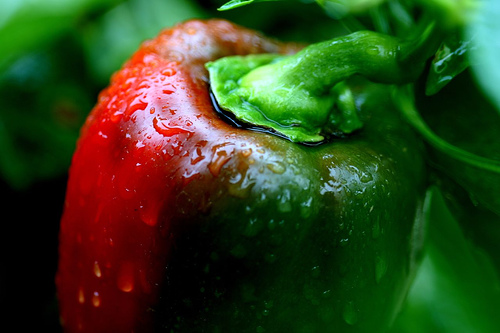capsicum: (49, 17, 433, 332)
